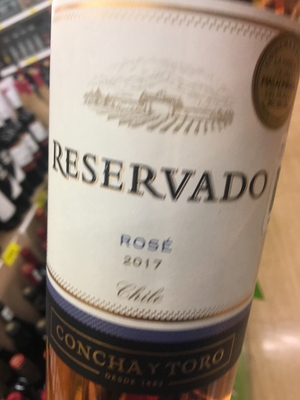reservado rose: (45, 1, 300, 396)
